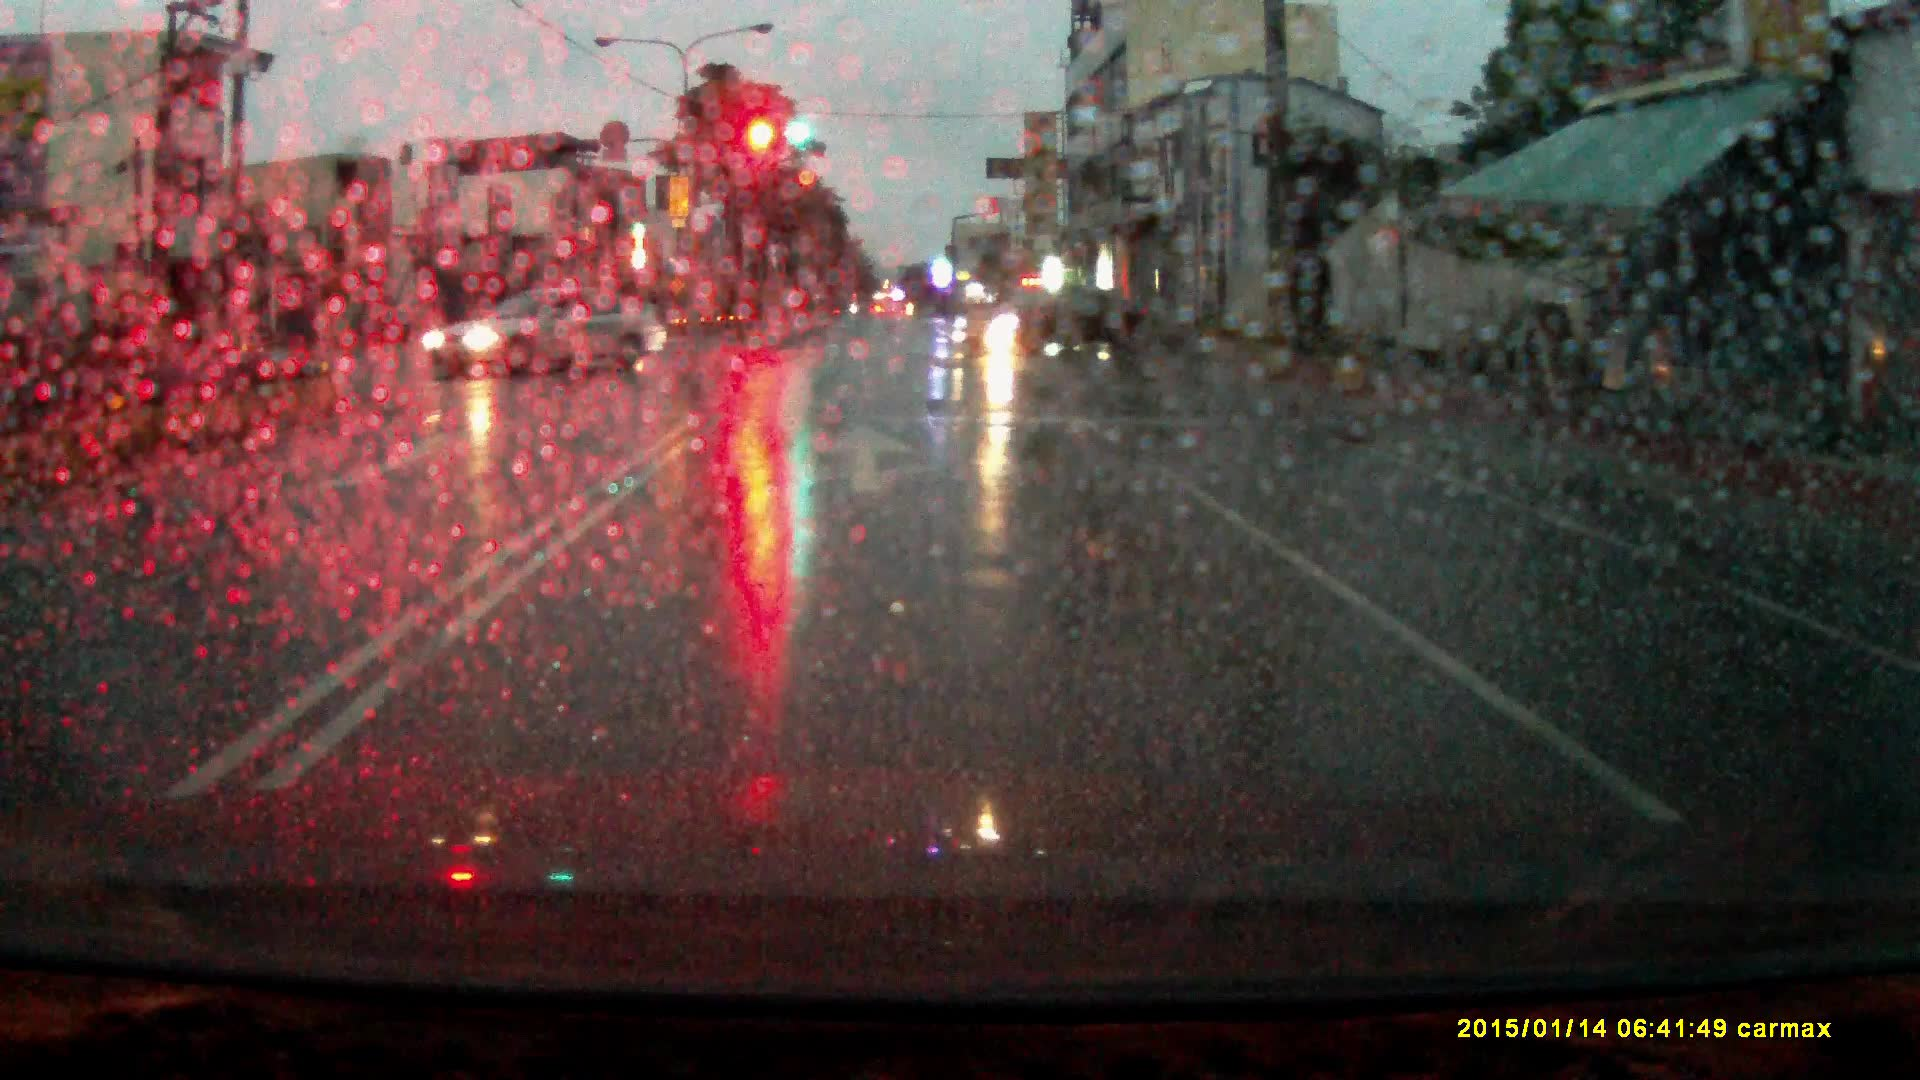vehicle: (425, 286, 671, 384), (955, 291, 1150, 361)
